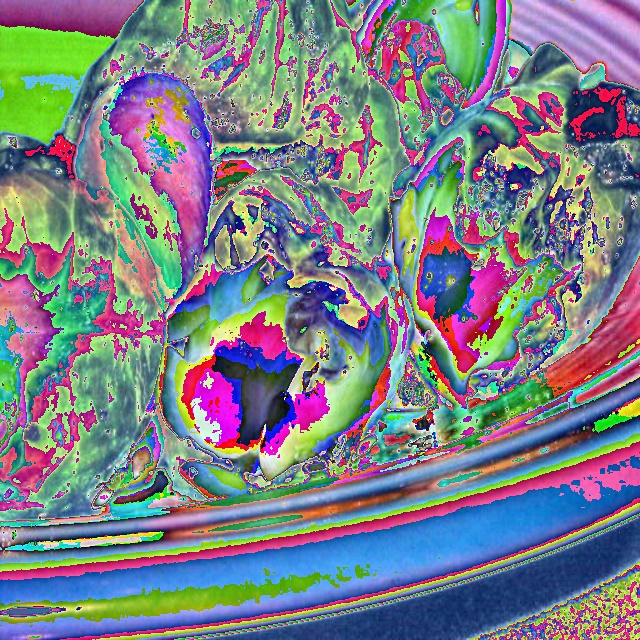background: (0, 0, 640, 520)
